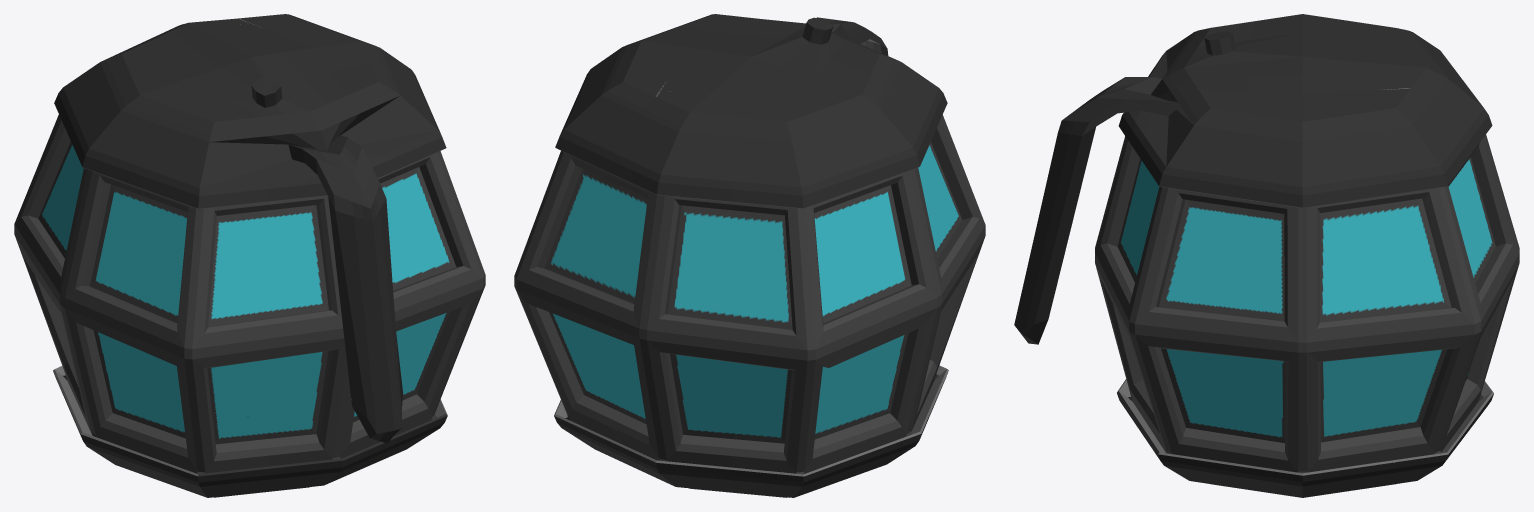
File: grenade_improved.fbx
The picture shows the model from 3 angles, left to right: view 1: azimuth 30°, elevation 25°; view 2: azimuth 150°, elevation 25°; view 3: azimuth 270°, elevation 25°; orthographic projection.
Visible parts, largest first — view 1: Cube; view 2: Cube; view 3: Cube.
Part boxes in pixels (x1,y1,x2,y2): Cube: (14, 14, 485, 497); Cube: (514, 14, 985, 497); Cube: (1014, 14, 1519, 497).
Bounding box in the file's own units: 35.14 × 35.53 × 40.79.
1 material, 1 textured.
